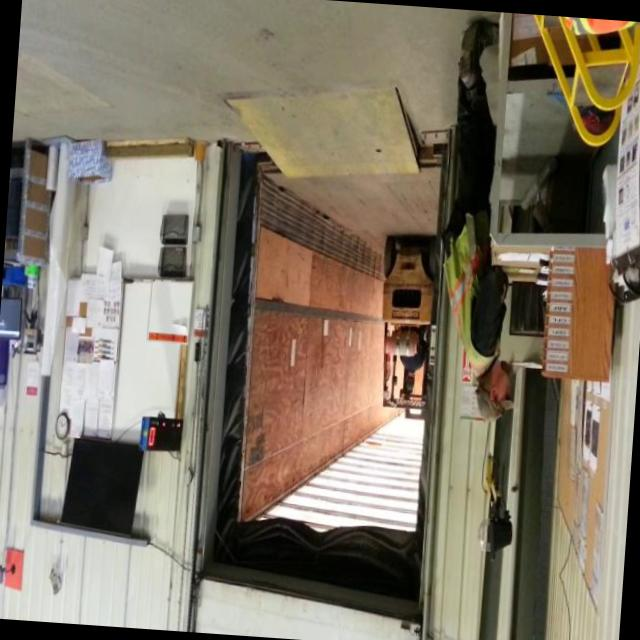driver: (398, 338, 428, 397)
forklift: (366, 224, 444, 426)
person: (432, 10, 538, 428)
